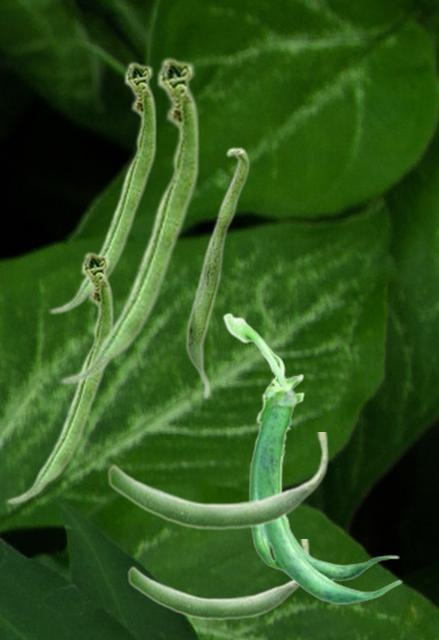french_bean: (222, 312, 401, 604), (58, 55, 199, 385), (48, 60, 156, 314), (5, 250, 113, 504), (107, 432, 328, 530), (185, 146, 249, 400), (127, 539, 309, 620)
